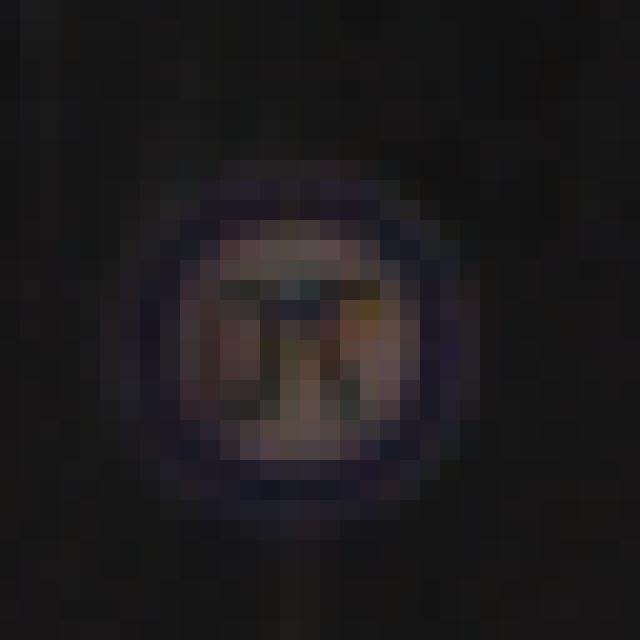SPEED LIMIT 70: (135, 187, 465, 508)
